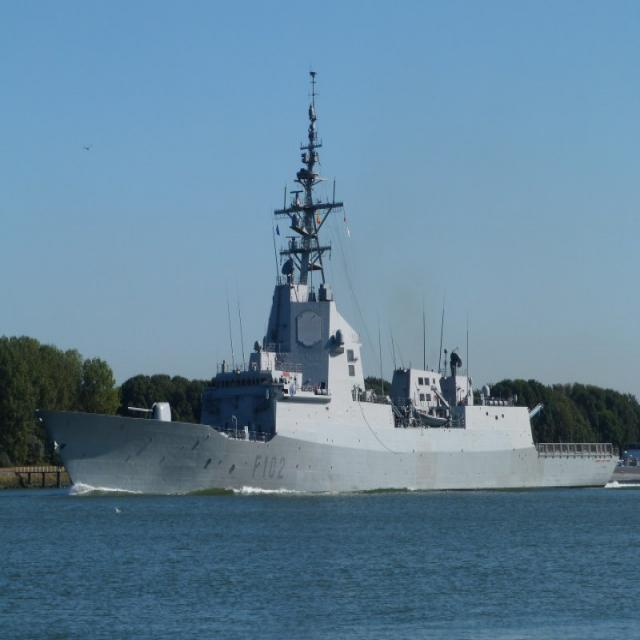Fragata: (34, 62, 623, 496)
